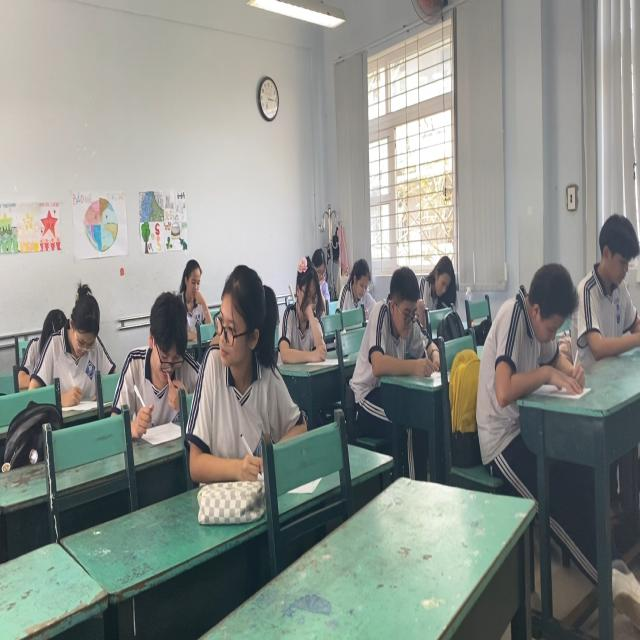cheating: (200, 262, 281, 455)
not_cheating: (484, 259, 580, 411), (120, 298, 198, 442), (40, 275, 112, 411), (584, 210, 640, 352), (371, 262, 431, 383), (278, 252, 326, 358), (417, 238, 466, 317), (177, 249, 217, 331), (334, 256, 374, 307)
